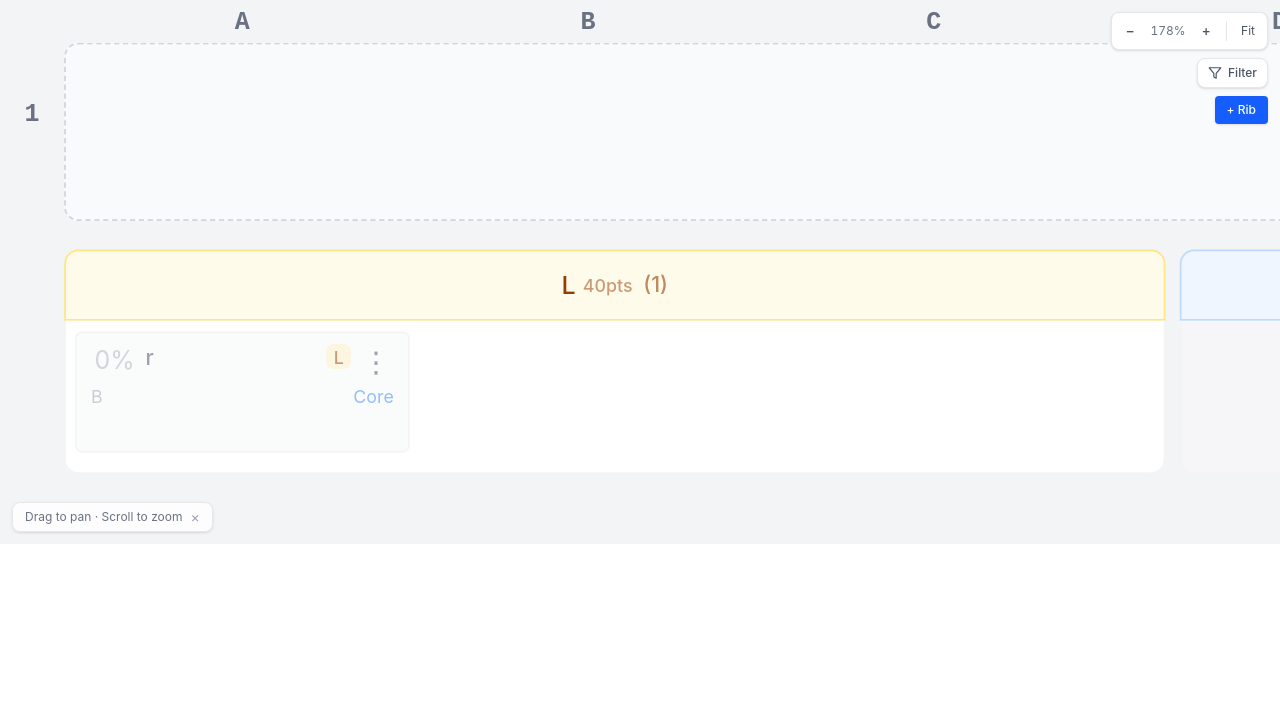
Test case: what a user sees › the edit dialog's lock note names it
The image size is (1280, 720).
Click the element showing "0% r L ⋮ B Core". click: click(242, 392)
box: [75,332,410,453]
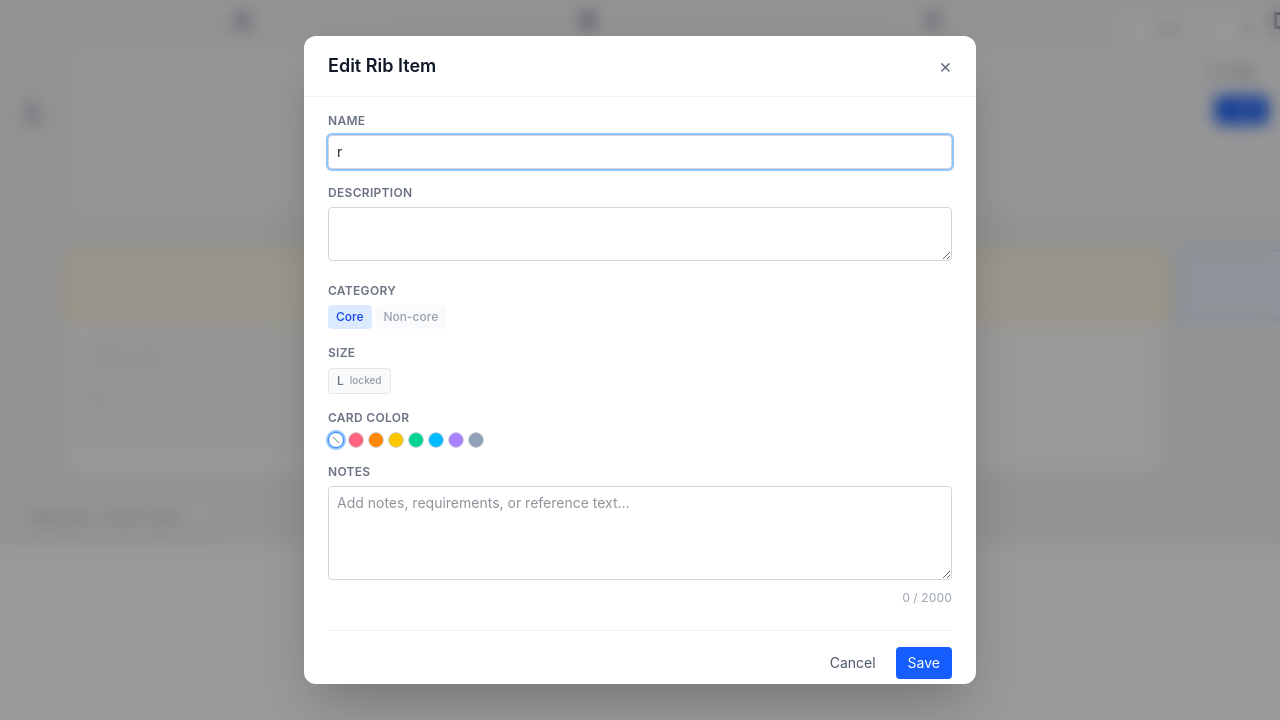
Now the element titled "Size locked: progress recorded in S2" is shown, box [328,368,391,394]
